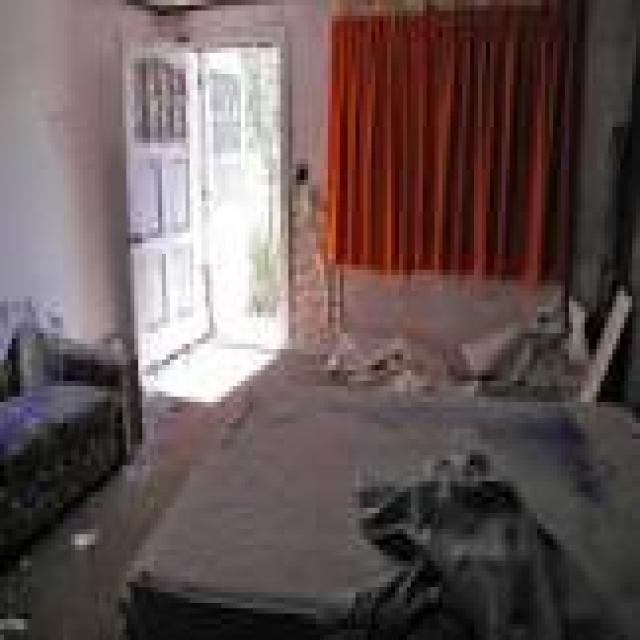mess: (229, 365, 636, 640), (0, 282, 86, 464), (58, 478, 114, 640)
